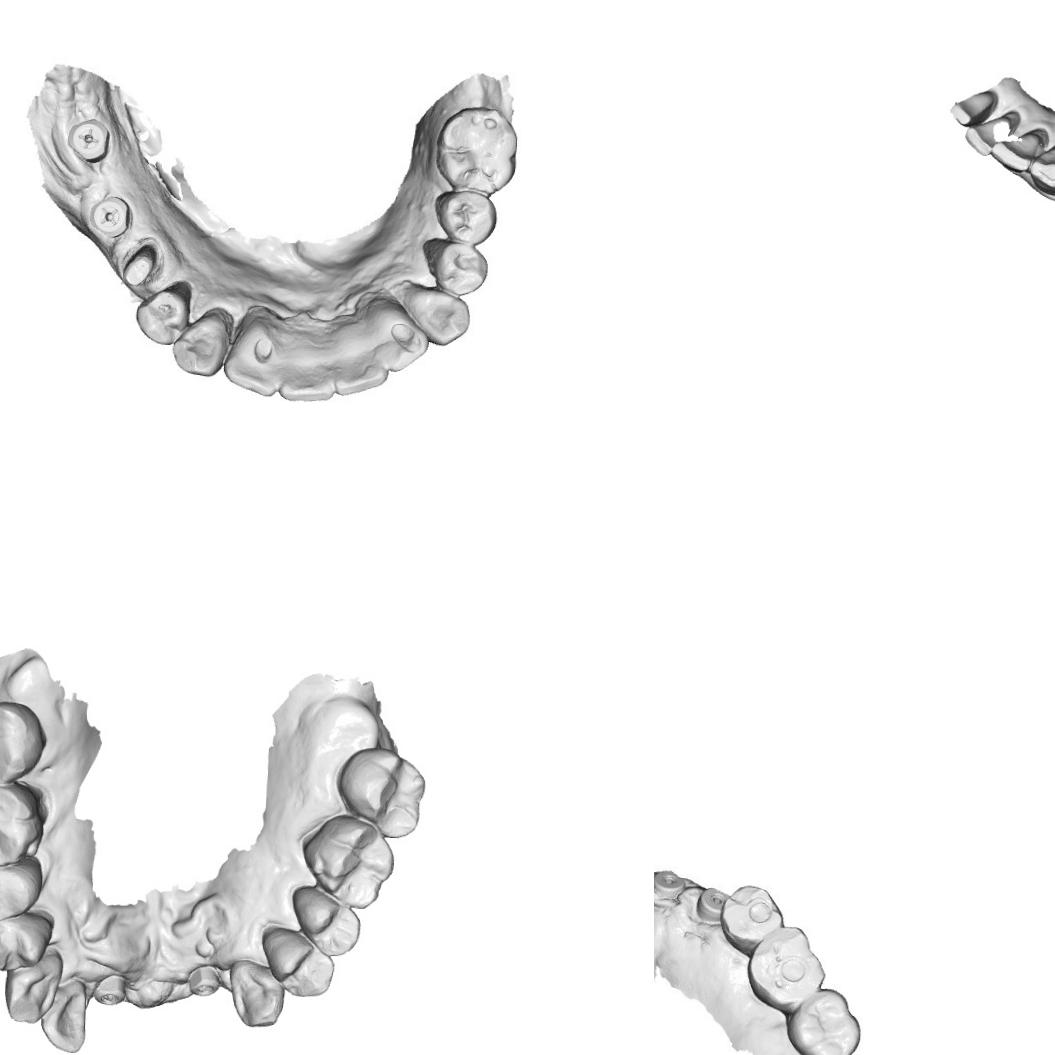canine: (395, 282, 472, 351), (169, 308, 232, 384), (0, 956, 60, 1028), (227, 961, 287, 1031), (1027, 138, 1055, 198)
crown: (114, 242, 161, 290)
implant: (654, 865, 687, 909), (96, 970, 130, 1006), (696, 888, 730, 921), (186, 962, 219, 992)
implant_plus: (68, 117, 109, 162), (91, 196, 130, 237)
incisor: (224, 308, 282, 394), (36, 975, 95, 1055), (278, 330, 334, 402), (372, 298, 427, 366), (328, 336, 386, 394), (989, 128, 1043, 176), (962, 111, 1015, 158), (948, 87, 1000, 129)
molar: (299, 810, 397, 914), (334, 742, 430, 844), (742, 924, 831, 1012), (433, 104, 516, 196), (785, 984, 868, 1055), (0, 697, 49, 794), (0, 782, 47, 873)
premolar: (258, 924, 340, 1003), (288, 882, 363, 959), (722, 881, 782, 956), (134, 279, 198, 349), (426, 236, 490, 297), (431, 187, 496, 246), (0, 910, 57, 976), (0, 858, 48, 927)
